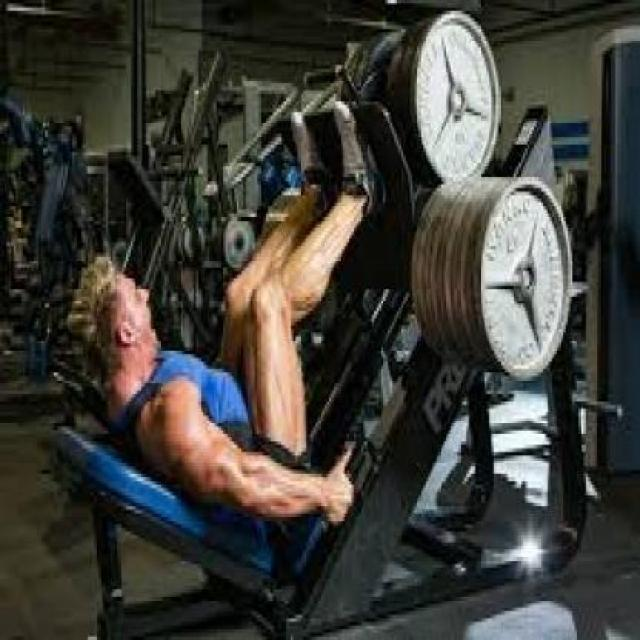leg press: (33, 12, 624, 640)
